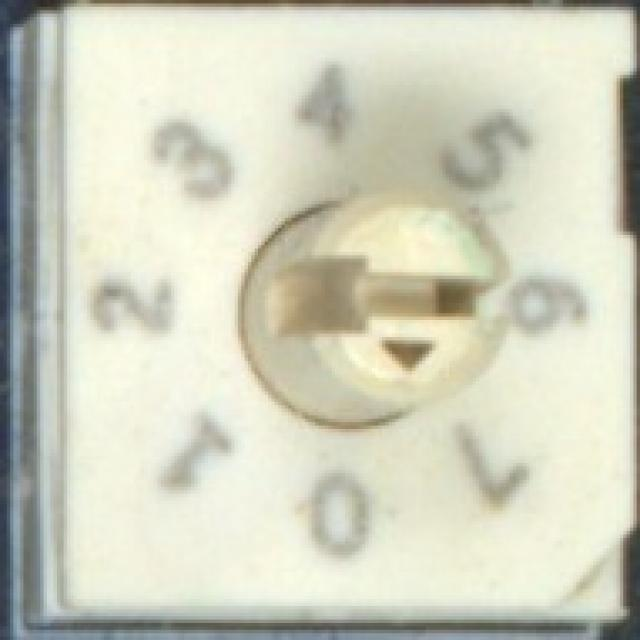potentiometer POT1: (27, 10, 640, 640)
